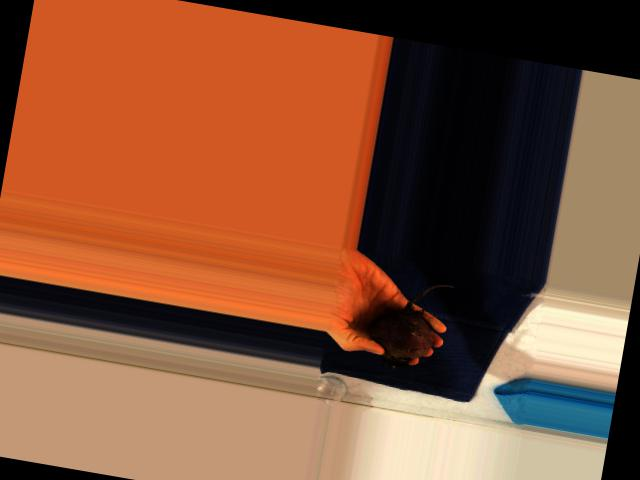beet: (363, 272, 457, 375)
